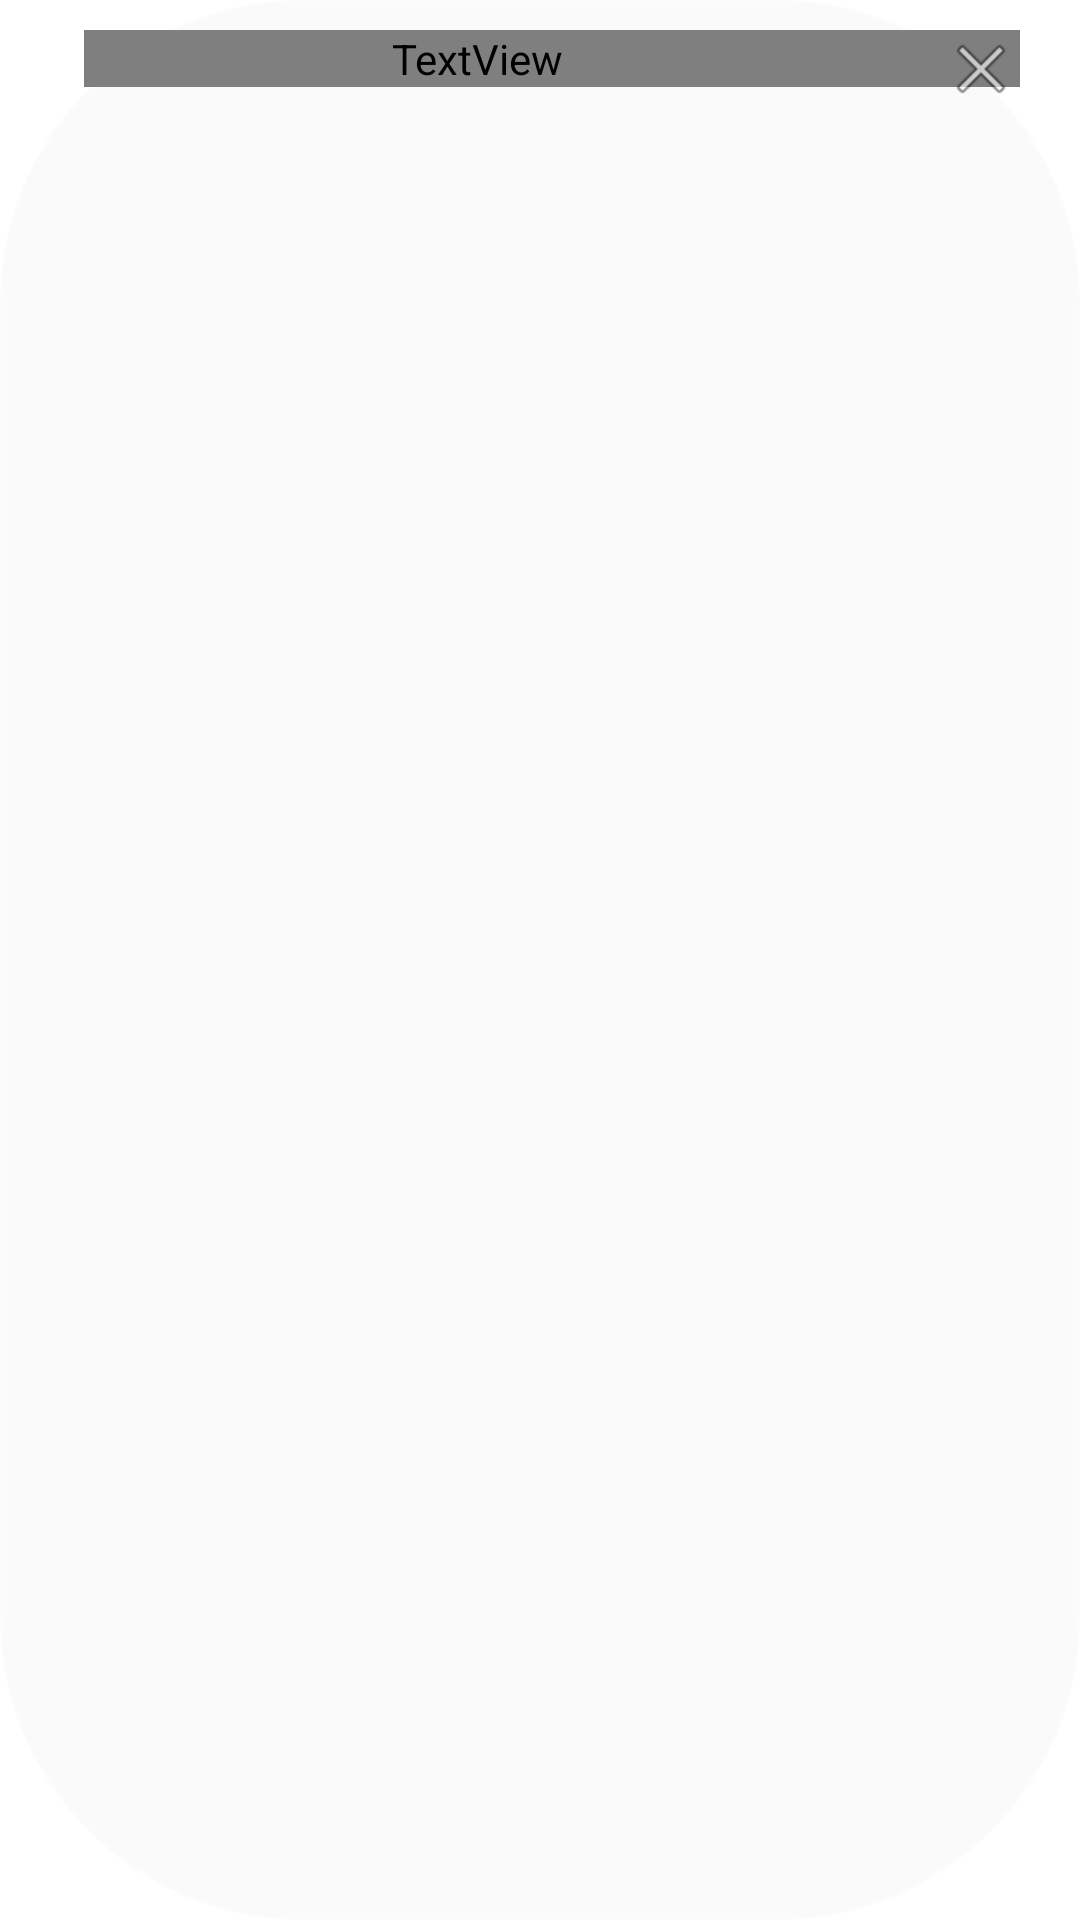

Named icons in this screenshot (1080×1920) and their centers, point (x, y):
close clear cancel: point (981, 62)
